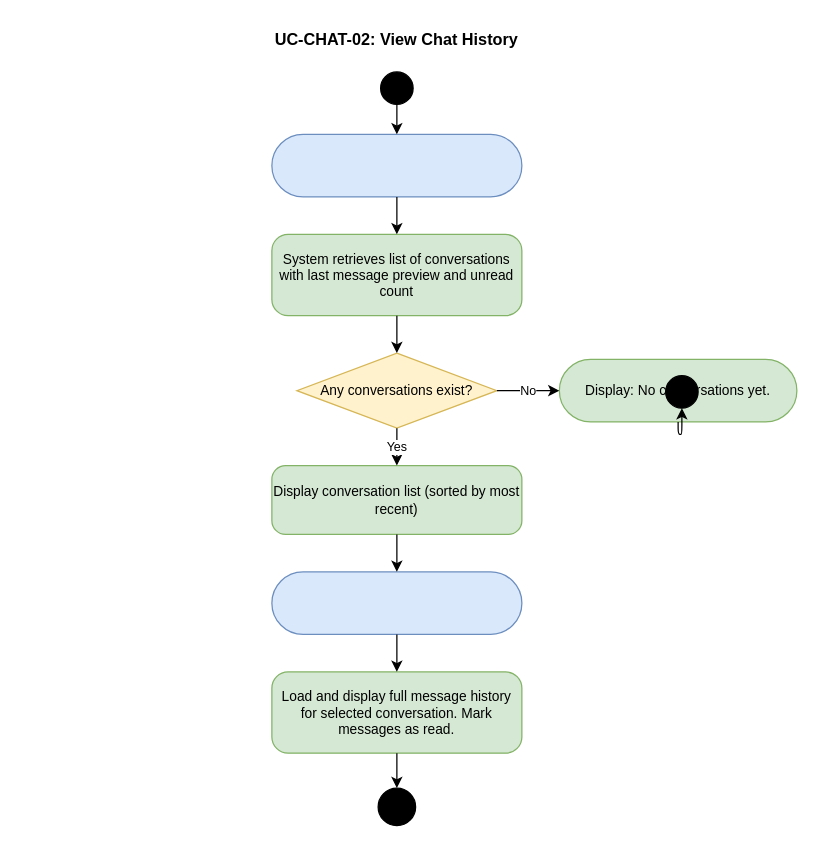
The diagram is 819 pixels wide and 848 high, and some of its shapes have lost their labels. The centre of each missing label's shape, as x and y in pixels:
User opens Chat section: point 396,165
User selects a conversation: point 396,602
